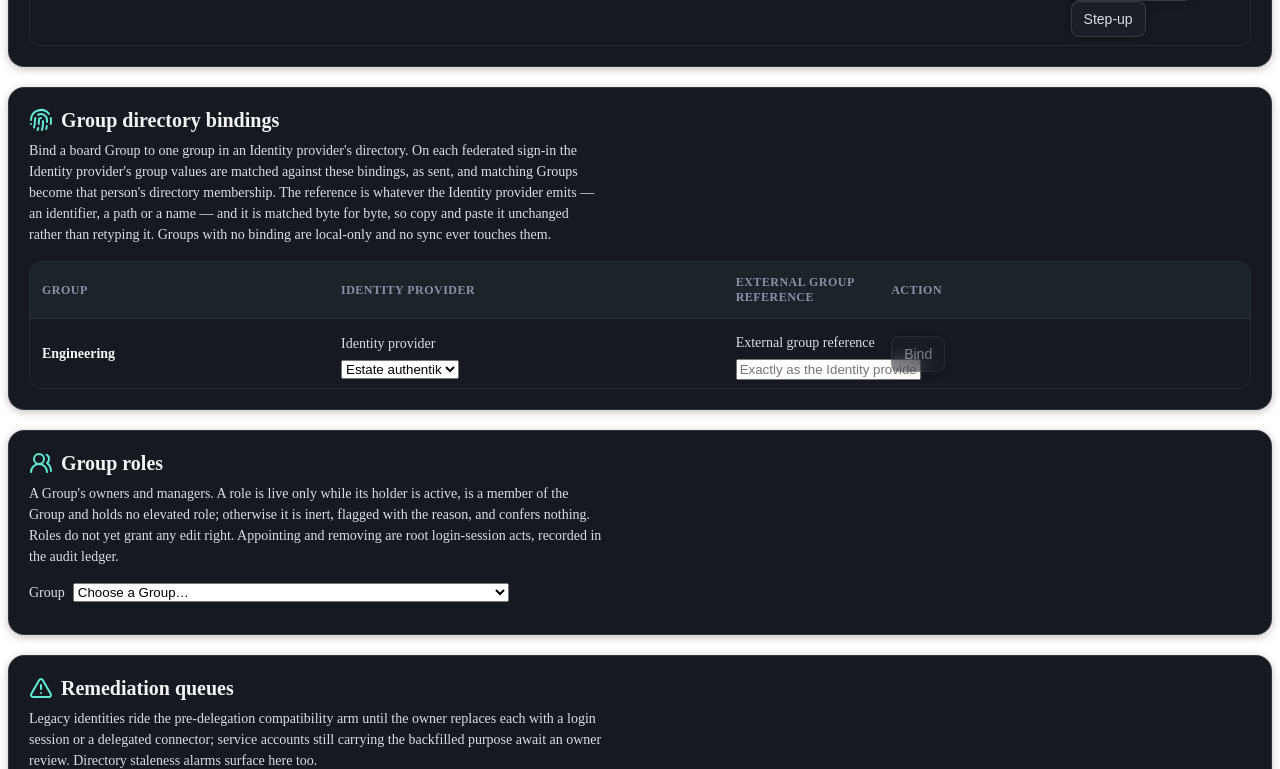
it: SS-12 · the Group directory binding surface › Bind stays disabled until BOTH halves are supplied
(page scrolled)
Expected: the button "Bind" is disabled, [891,336,945,372]
Type "x" into the field labelled "External group reference".
click(828, 370); type("x")  # box [736,359,921,380]
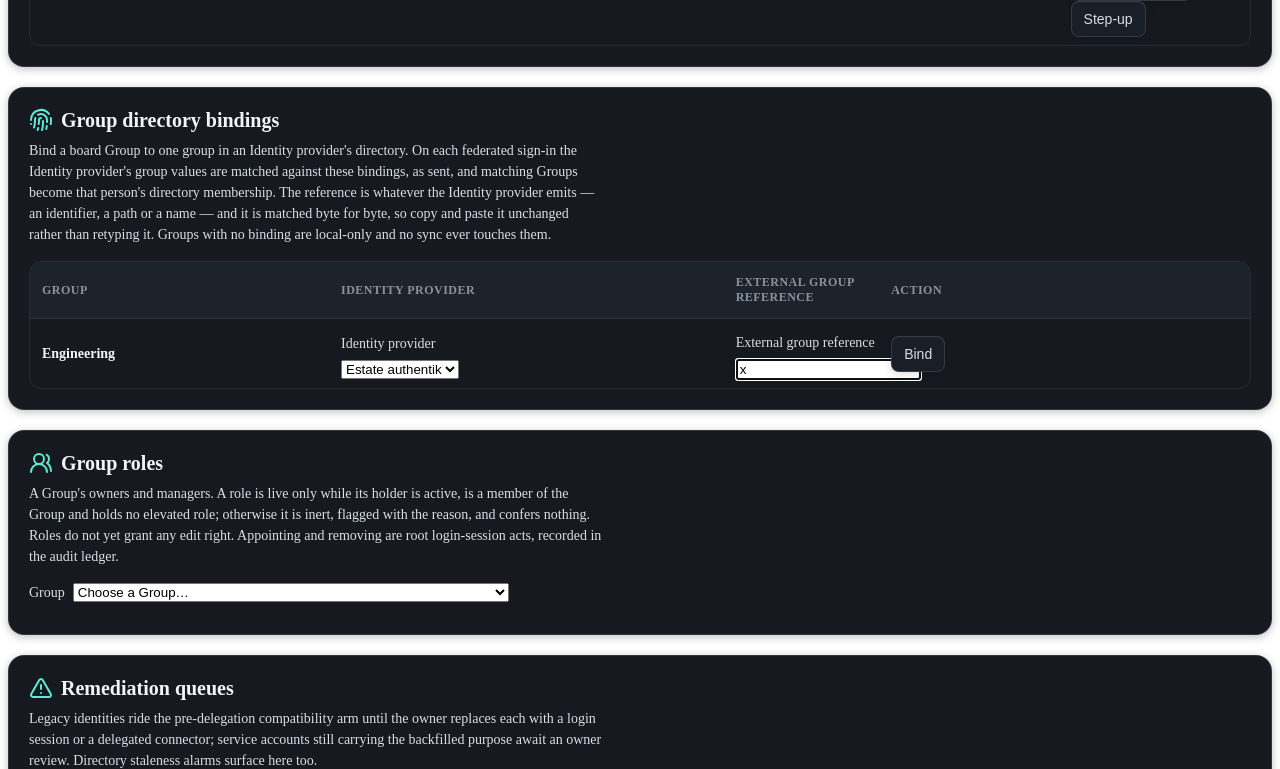
Now the button "Bind" is enabled, box [891,336,945,372]
